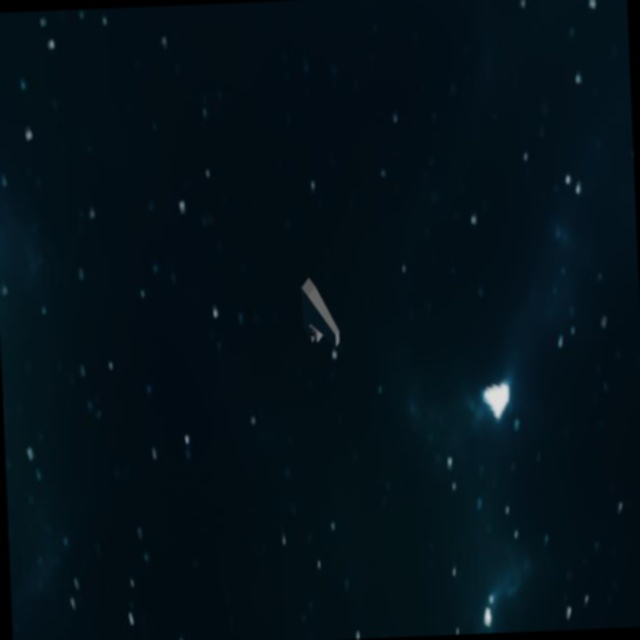large_debris: (295, 252, 349, 364)
